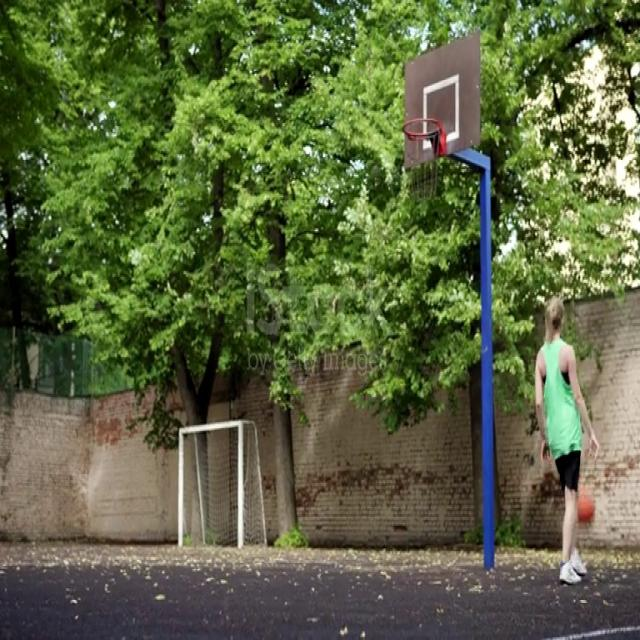ball: (576, 488, 596, 524)
